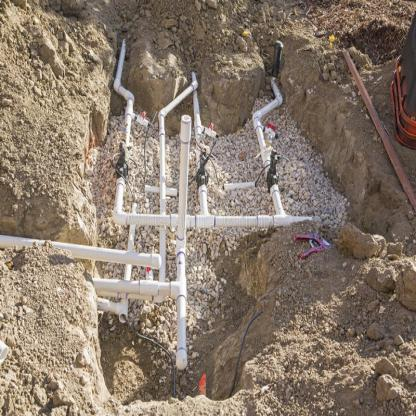PVC: (0, 37, 313, 370)
